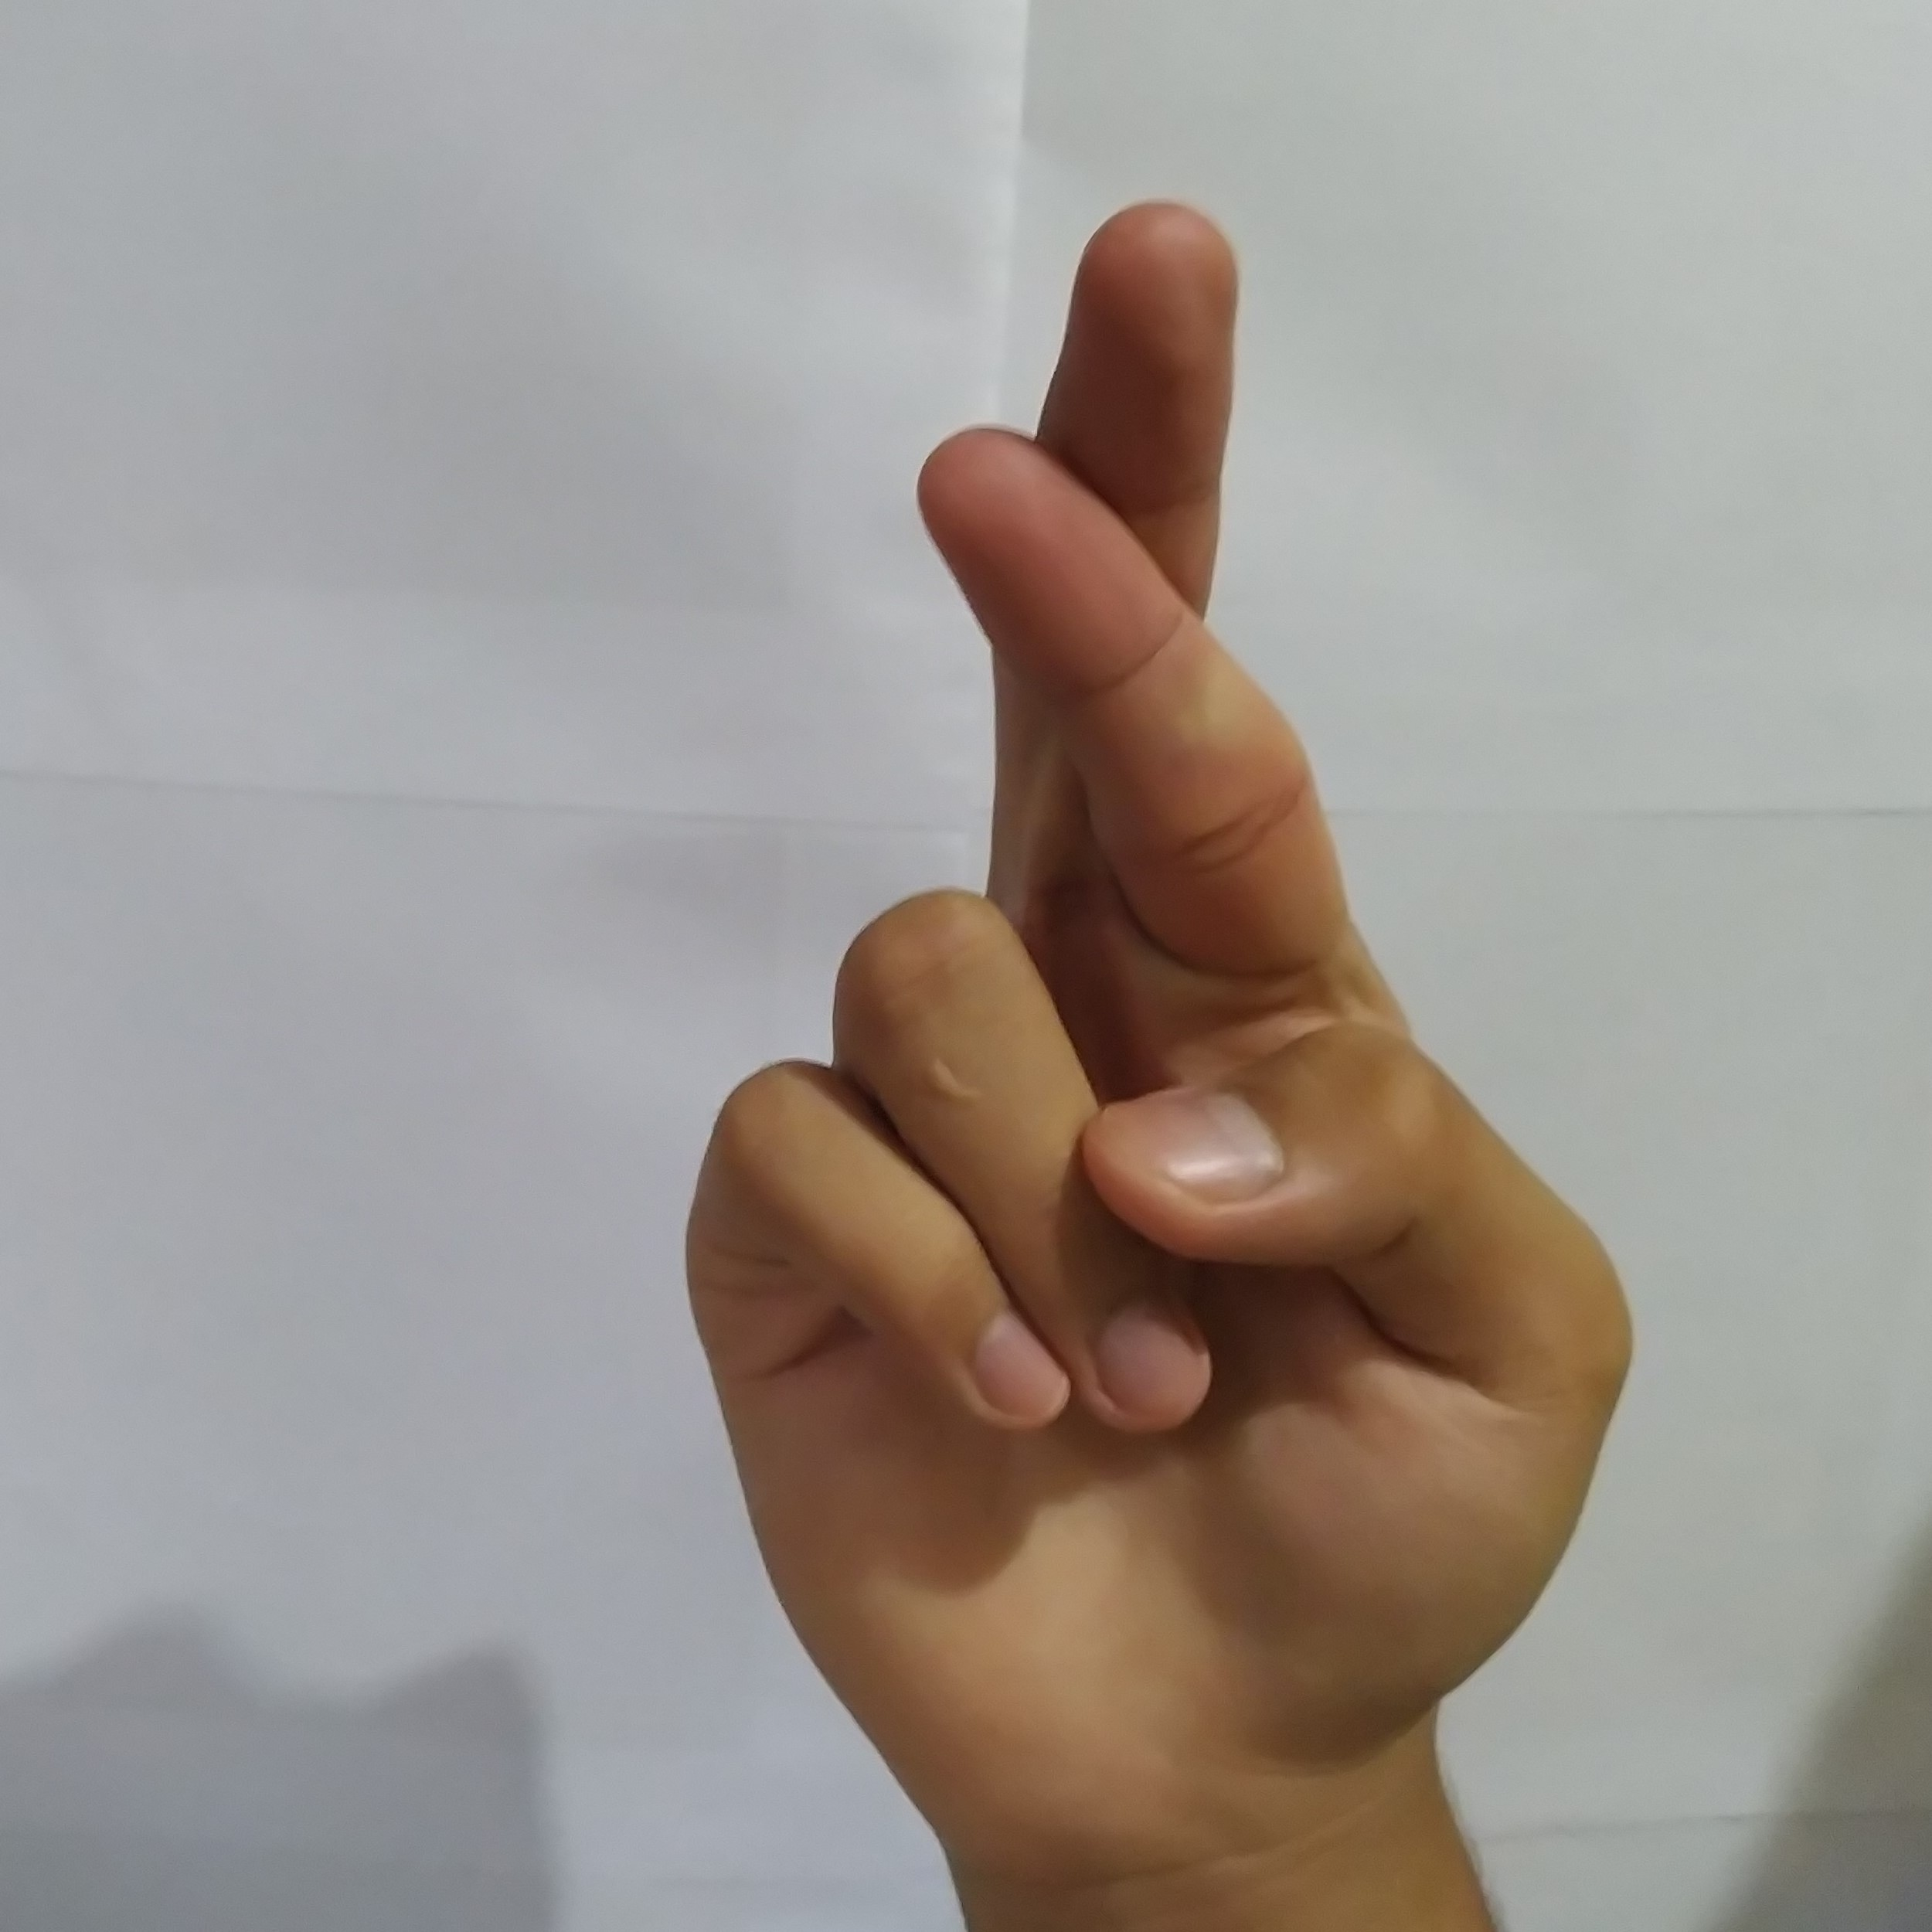R: (653, 179, 1660, 1824)
